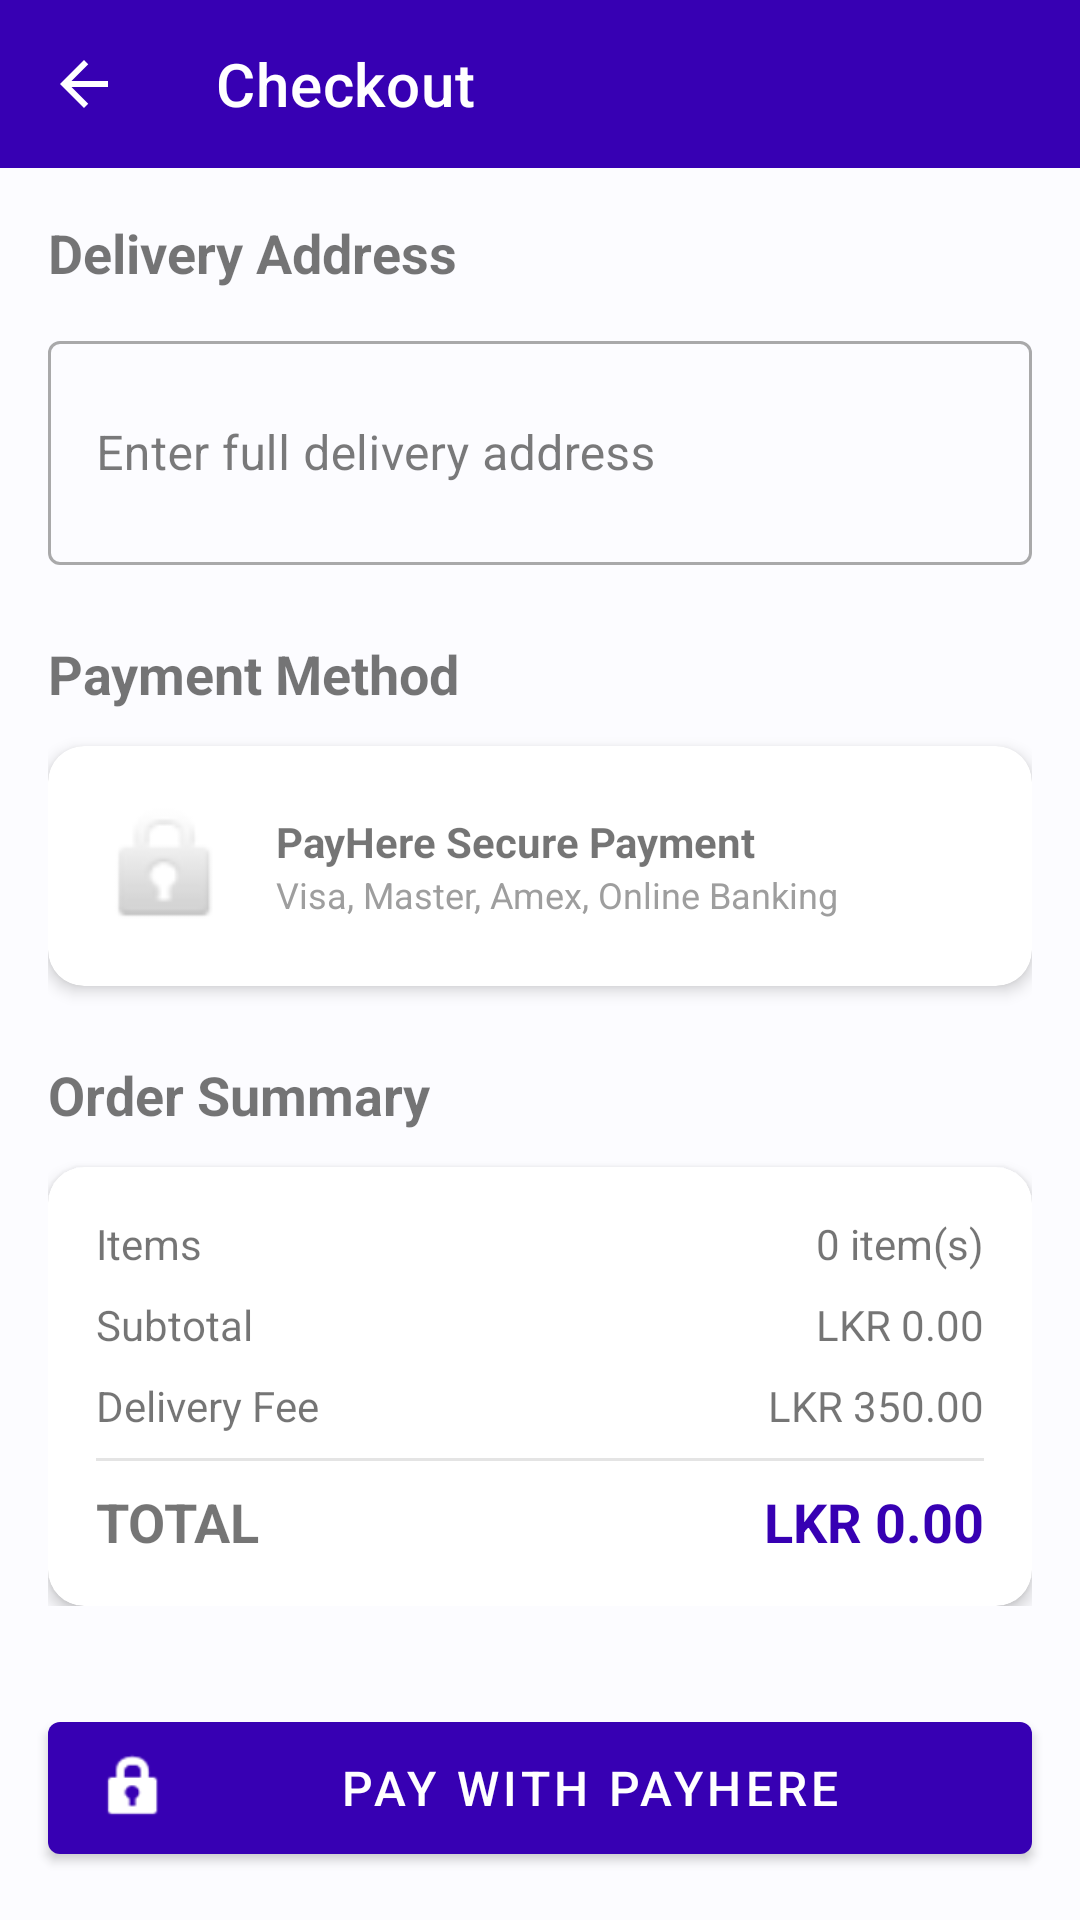

Screen size 1080w x 1920h. Icon name, then its center in pixels as point (x, y):
lock idle: point (164, 885)
